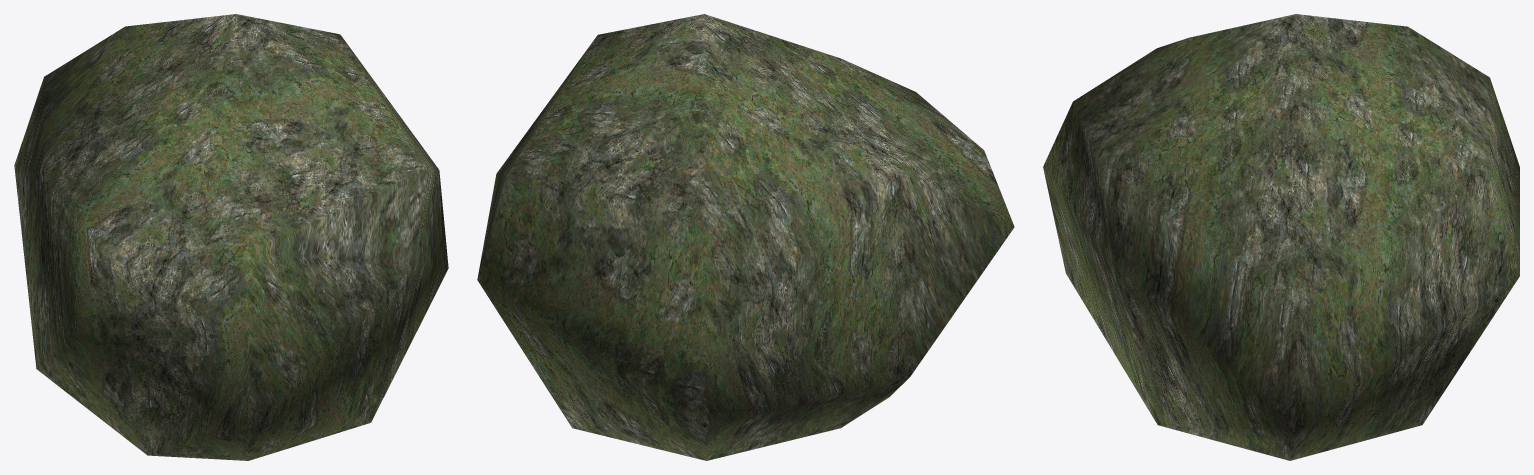
The model's file is mtns_rock_moss_a9_l1.fbx.
The picture shows the model from 3 angles, left to right: view 1: azimuth 30°, elevation 25°; view 2: azimuth 150°, elevation 25°; view 3: azimuth 270°, elevation 25°; orthographic projection. The views are drawn at different scales.
Parts seen in each view (by area): view 1: mesh_node; view 2: mesh_node; view 3: mesh_node.
Boxes of the visible parts, <box> form: mesh_node: <box>14,14,448,460</box>; mesh_node: <box>477,14,1014,460</box>; mesh_node: <box>1043,14,1519,460</box>.
Bounding box in the file's own units: 1.99 × 1.61 × 1.84.
